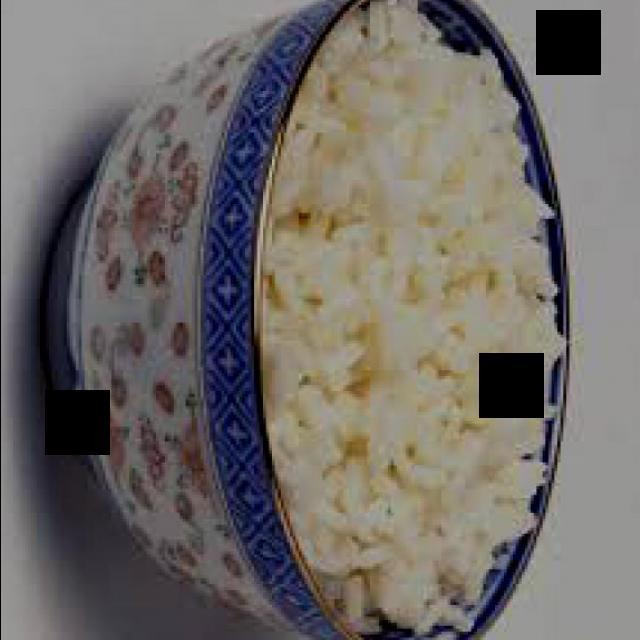rice: (258, 0, 560, 637)
